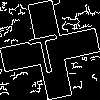T: (25, 25, 65, 76)
